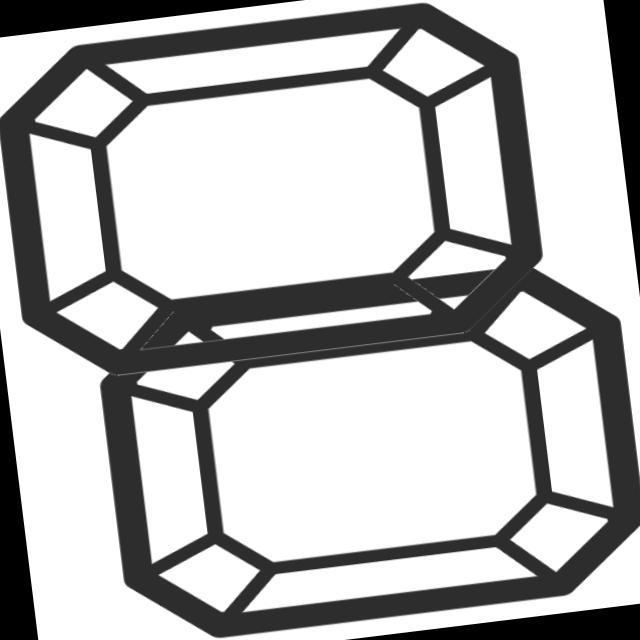emerald: (1, 1, 561, 406), (80, 240, 640, 640)
